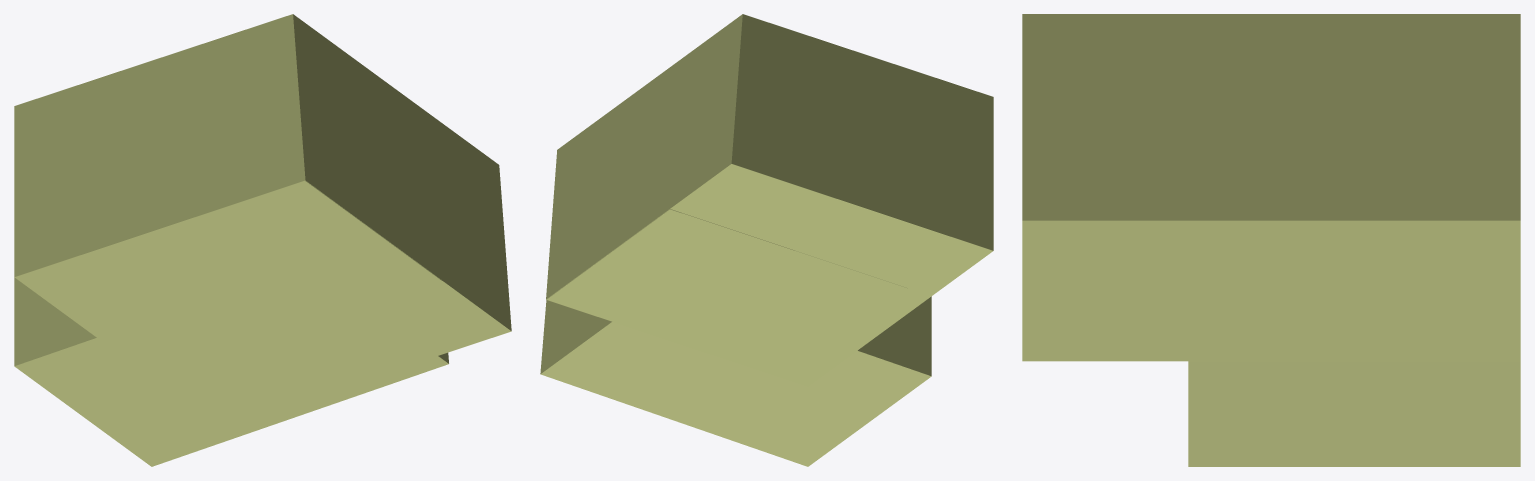
3 views of the same model, side by side, from view 1: azimuth 30°, elevation 25°; view 2: azimuth 150°, elevation 25°; view 3: azimuth 270°, elevation 25° (orthographic). The views are drawn at different scales.
Visible parts, largest first — view 1: 0_2_0_1_1_1_1_1_3_0_0; view 2: 0_2_0_1_1_1_1_1_3_0_0; view 3: 0_2_0_1_1_1_1_1_3_0_0.
Boxes of the visible parts, x1,y1,x2,y2 form: 0_2_0_1_1_1_1_1_3_0_0: (14,14,511,466); 0_2_0_1_1_1_1_1_3_0_0: (540,14,993,466); 0_2_0_1_1_1_1_1_3_0_0: (1022,14,1520,466).
Bounding box in the file's own units: 7.5 × 6.85 × 9.
